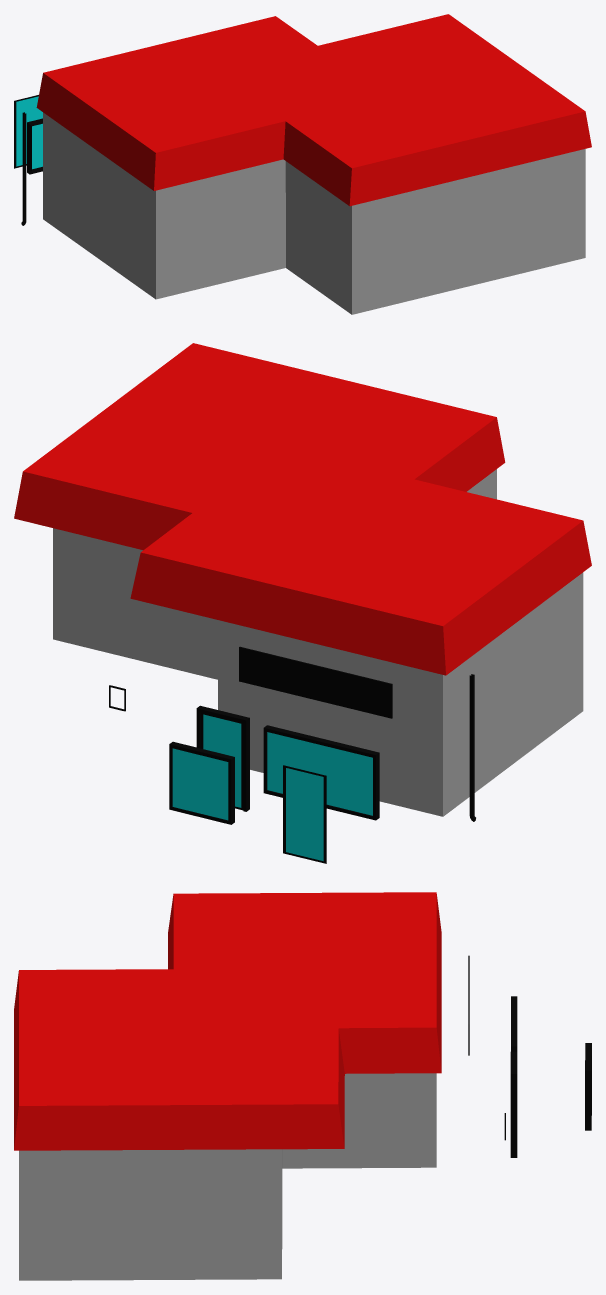
File: Gas Station Building.fbx
3 views of the same model, one above another, from view 1: azimuth 30°, elevation 25°; view 2: azimuth 150°, elevation 25°; view 3: azimuth 270°, elevation 25° (orthographic). The views are drawn at different scales.
Parts seen in each view (by area): view 1: Roof, Building, Door2, Downpipe, Large_Glass; view 2: Roof, Building, Sign, Large_Glass, Door2, Small_Glass, Door1, Large_Frame, Small_Frame, Door_Frame, Downpipe; view 3: Roof, Building, Door_Frame, Small_Frame.
Boxes of the visible parts, x1,y1,x2,y2 form: Roof: [36, 14, 591, 206]; Building: [43, 112, 585, 314]; Door2: [14, 95, 42, 168]; Downpipe: [21, 112, 26, 225]; Large_Glass: [32, 123, 42, 169]; Roof: [14, 343, 591, 675]; Building: [53, 469, 583, 816]; Sign: [239, 646, 392, 718]; Large_Glass: [267, 732, 372, 815]; Door2: [283, 765, 326, 863]; Small_Glass: [172, 748, 228, 820]; Door1: [200, 712, 243, 810]; Large_Frame: [263, 725, 379, 820]; Small_Frame: [169, 741, 234, 824]; Door_Frame: [196, 705, 249, 811]; Downpipe: [469, 674, 475, 821]; Roof: [14, 892, 441, 1150]; Building: [19, 1073, 436, 1280]; Door_Frame: [510, 1051, 517, 1157]; Small_Frame: [585, 1043, 591, 1130].
Bounding box in the file's own units: 493 × 175 × 525.
